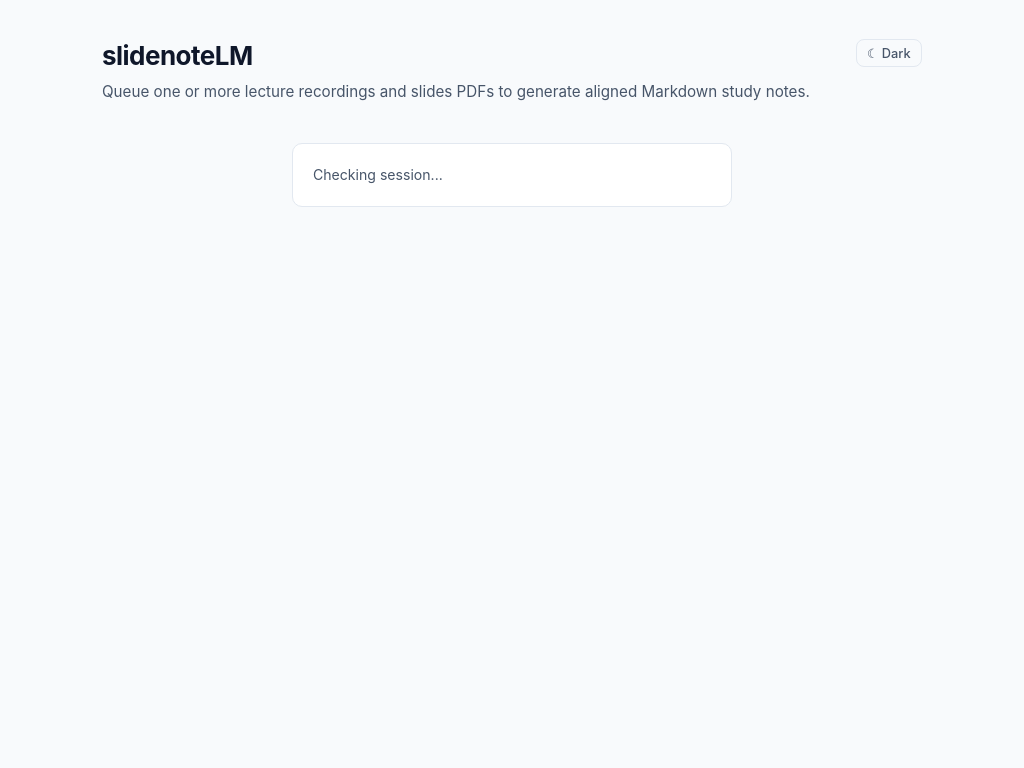
slidenoteLM App › toggles between light and dark mode and persists theme in localStorage
Later steps or results of the test are not shown.
What coordinates should you click on to do the following:
click the button with aria-label "Switch to dark mode"
I would click on:
 (889, 53)
Its box is [856,39,922,67].
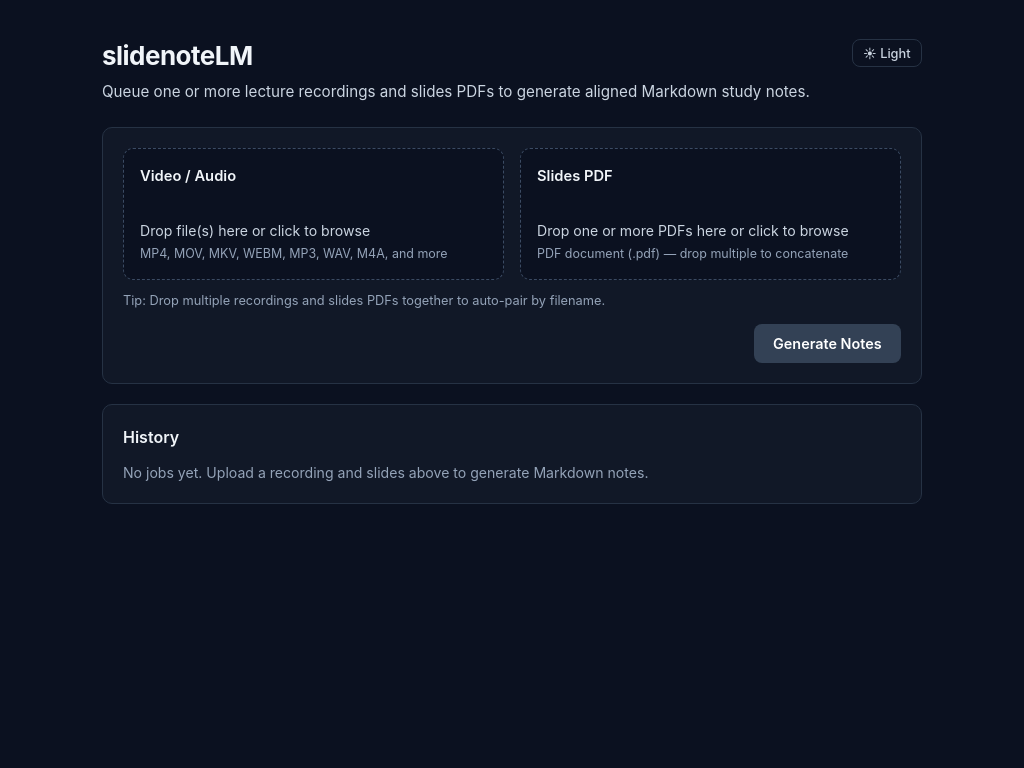
Now the button with aria-label "Switch to light mode" is pressed, box [852,39,922,67]
